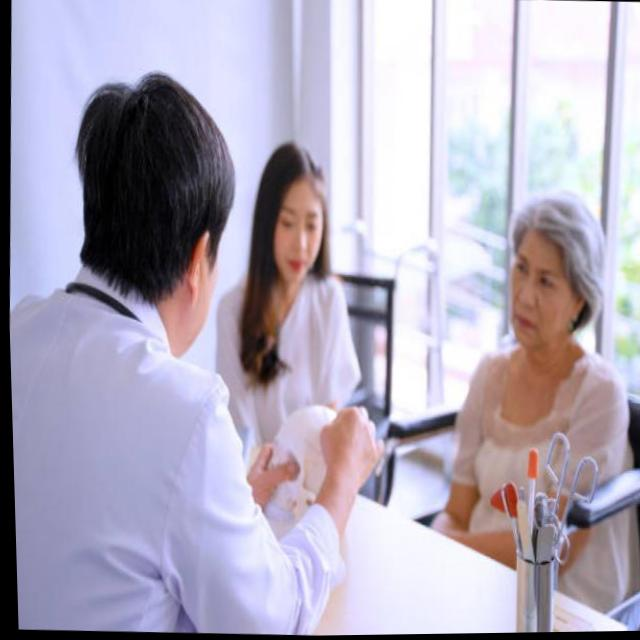no helmet: (71, 71, 247, 324)
